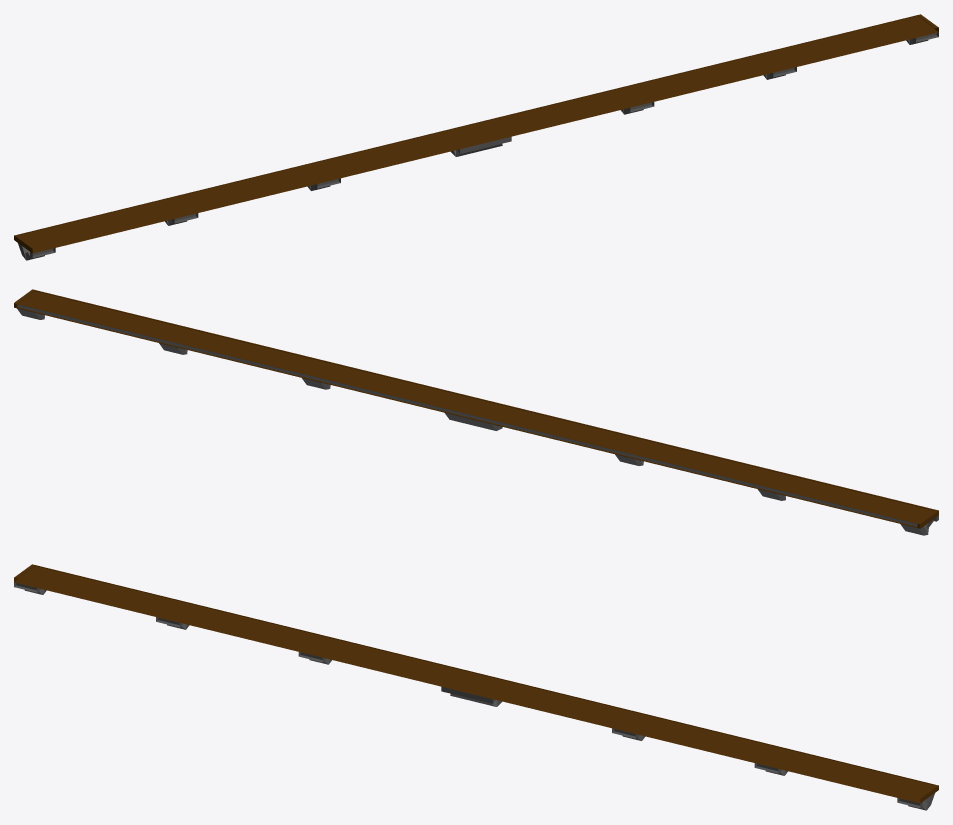
The model's file is Rack.fbx.
The picture shows the model from 3 angles, top to bottom: view 1: azimuth 30°, elevation 25°; view 2: azimuth 150°, elevation 25°; view 3: azimuth 330°, elevation 25°; orthographic projection.
Visible parts, largest first — view 1: Rack; view 2: Rack; view 3: Rack.
Part boxes in pixels (x1,y1,x2,y2): Rack: [14, 14, 938, 260]; Rack: [14, 289, 938, 535]; Rack: [14, 564, 938, 810].
Bounding box in the file's own units: 5873 × 116 × 209.
